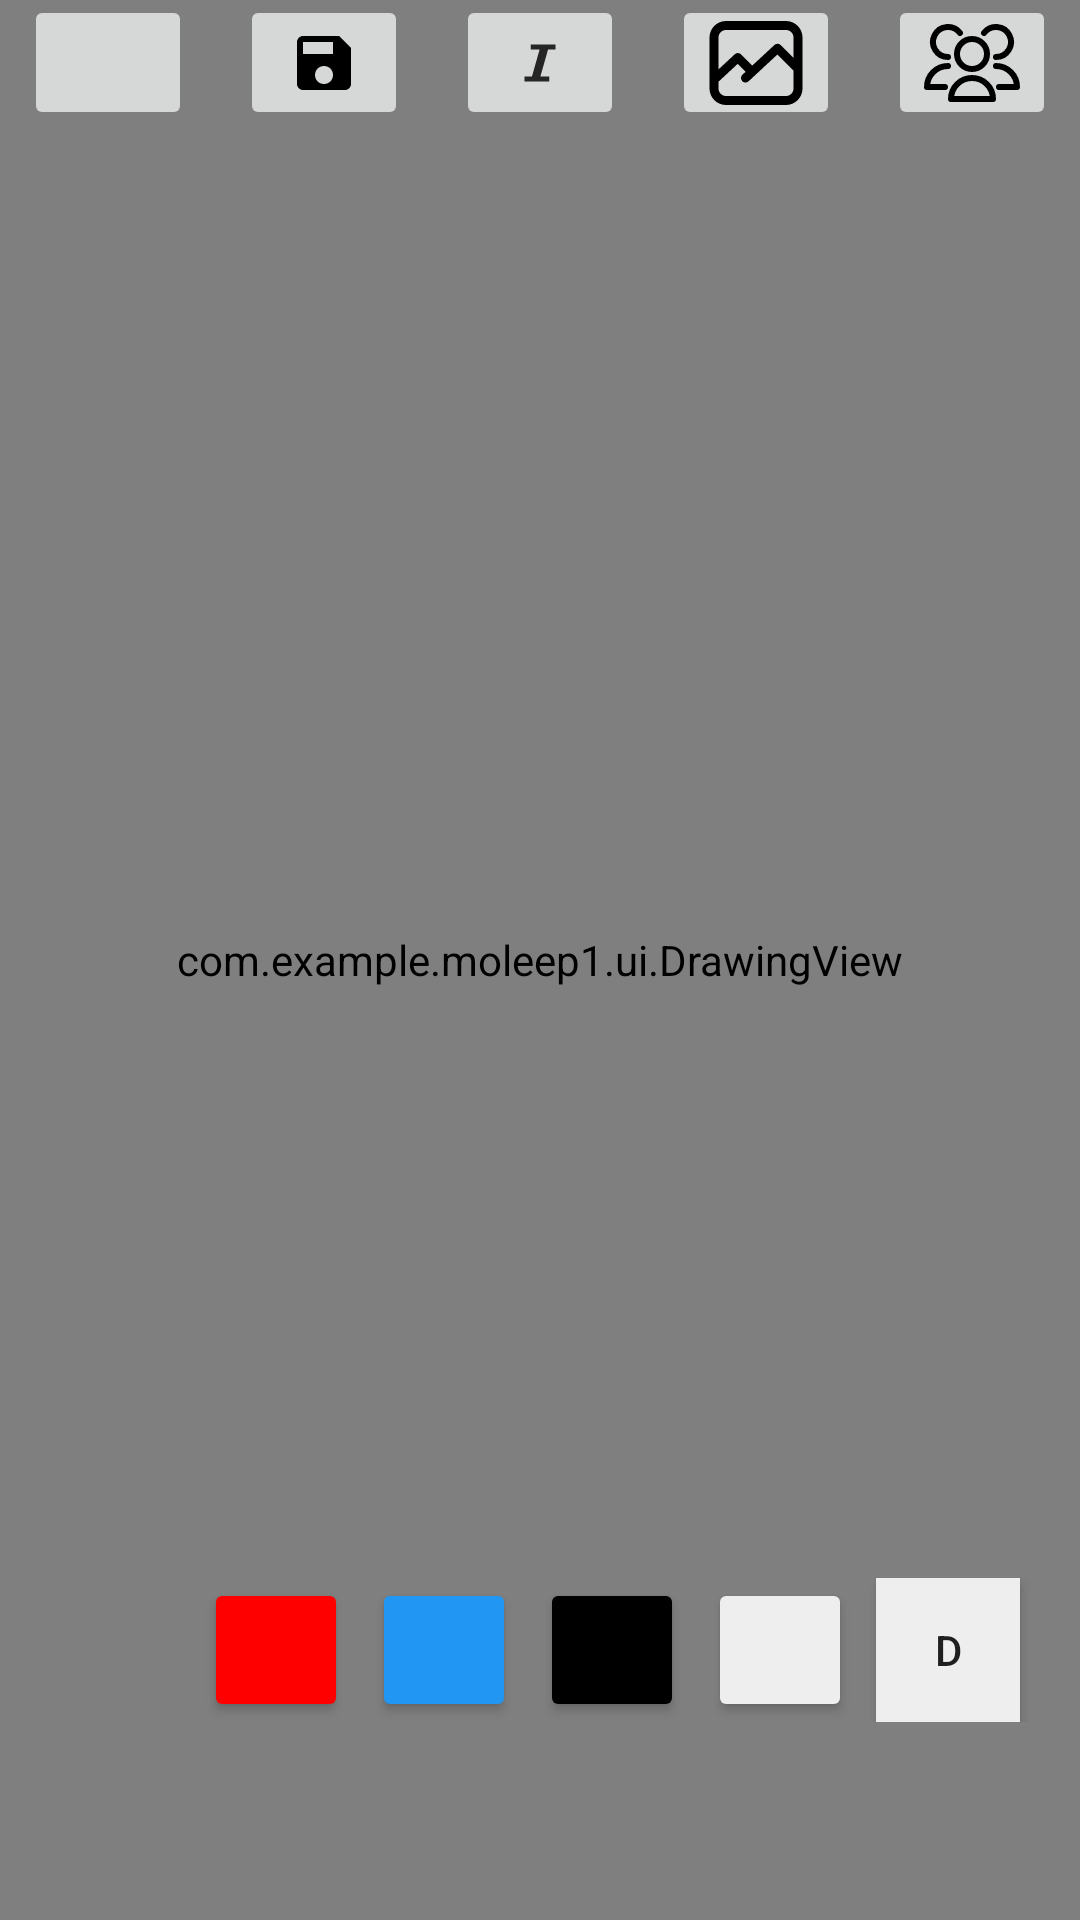

Where to tap for icons on this 1080 × 1920 app screen, as [x,y]:
gall: [756,62]
peos: [972,62]
sav: [324,62]
